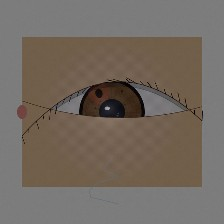foreign_body_visible: (75, 74, 123, 112)
